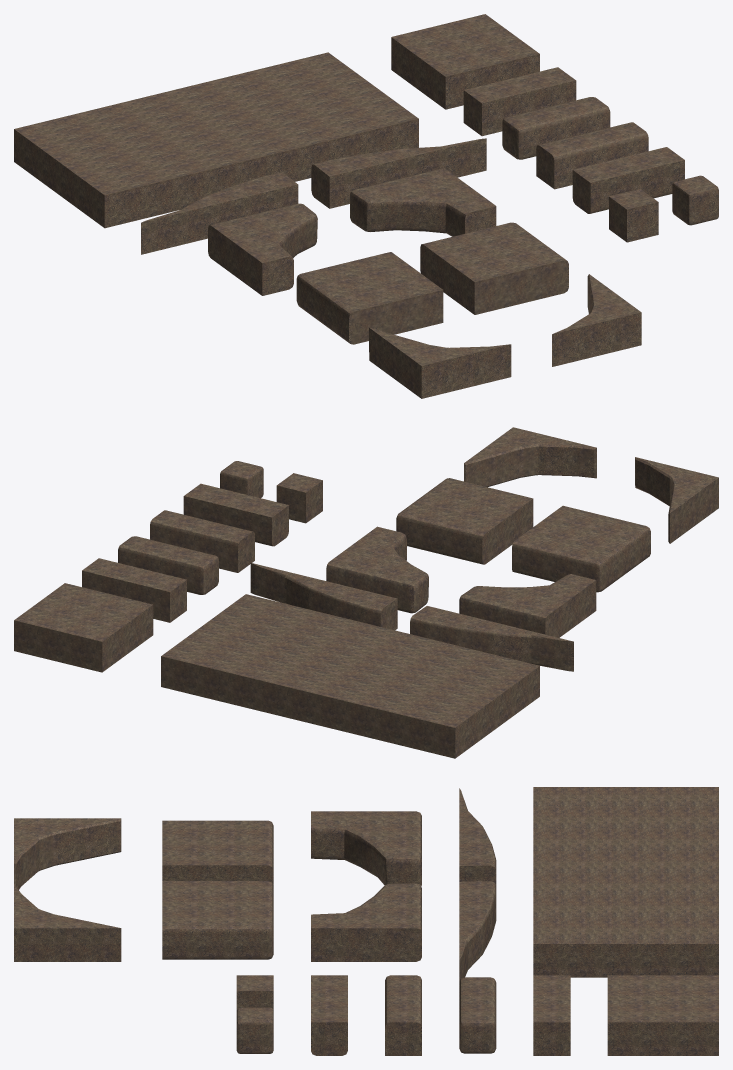
File: CaveWallsBasicV2.fbx
3 views of the same model, one above another, from view 1: azimuth 30°, elevation 25°; view 2: azimuth 150°, elevation 25°; view 3: azimuth 270°, elevation 25° (orthographic). The views are drawn at different scales.
Parts seen in each view (by area): view 1: TenByFive, ThreeByThreeR, ThreeByThreeL, CubeThreeByThree, ThreebyThreeCliffR, ThreebyThreeCliffL, SteepSlopeL, SlopeR, SlopeL, SteepSlopeR, OneByThreeRD, OneByThree (+4 smaller); view 2: TenByFive, CubeThreeByThree, ThreeByThreeR, ThreeByThreeL, ThreebyThreeCliffL, SlopeL, SteepSlopeR, ThreebyThreeCliffR, SlopeR, SteepSlopeL, OneByThreeRD, OneByThree (+4 smaller); view 3: TenByFive, CubeThreeByThree, ThreeByThreeR, ThreebyThreeCliffR, ThreeByThreeL, ThreebyThreeCliffL, SteepSlopeR, SteepSlopeL, OneByThree, OneByThreeRD, OneByThreeRU, SlopeR (+4 smaller).
Part boxes in pixels (x1,y1,x2,y2): TenByFive: (14,52,418,228); ThreeByThreeR: (420,222,568,314); ThreeByThreeL: (296,252,443,344); CubeThreeByThree: (391,14,539,109); ThreebyThreeCliffR: (350,168,496,236); ThreebyThreeCliffL: (208,203,317,295); SteepSlopeL: (369,327,511,398); SlopeR: (311,138,486,208); SlopeL: (141,172,298,254); SteepSlopeR: (552,274,641,366); OneByThreeRD: (572,147,684,213); OneByThree: (463,67,576,136); TenByFive: (161,594,539,758); CubeThreeByThree: (14,583,153,672); ThreeByThreeR: (396,478,533,564); ThreeByThreeL: (512,505,650,592); ThreebyThreeCliffL: (459,574,596,637); SlopeL: (410,606,573,671); SteepSlopeR: (464,427,596,487); ThreebyThreeCliffR: (326,526,428,613); SlopeR: (250,563,397,630); SteepSlopeL: (635,457,718,543); OneByThreeRD: (183,483,288,546); OneByThree: (82,558,186,622); TenByFive: (533,787,718,977); CubeThreeByThree: (607,975,718,1055); ThreeByThreeR: (162,881,273,959); ThreebyThreeCliffR: (311,883,421,961); ThreeByThreeL: (162,820,273,885); ThreebyThreeCliffL: (311,811,421,886); SteepSlopeR: (14,884,121,961); SteepSlopeL: (14,818,121,889); OneByThree: (533,975,570,1055); OneByThreeRD: (311,975,347,1055); OneByThreeRU: (385,975,421,1055); SlopeR: (459,881,496,981).
Bounding box in the file's own units: 15 × 1 × 19.
Materials: 1 (1 with a texture image).
